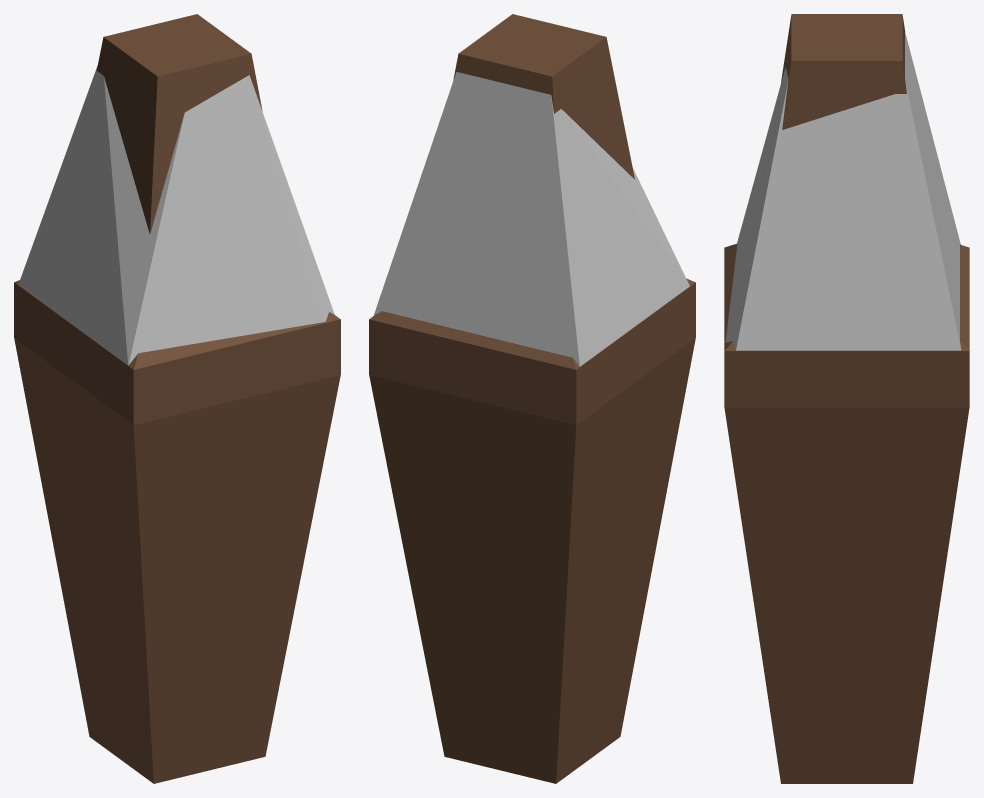
The model's file is SM_Bld_Roof_Cap_End_Peak_01.fbx.
3 renders of one model, left to right at view 1: azimuth 30°, elevation 25°; view 2: azimuth 150°, elevation 25°; view 3: azimuth 270°, elevation 25°, orthographic. The views are drawn at different scales.
Parts seen in each view (by area): view 1: SM_Bld_Roof_Cap_End_Peak_01, SM_Bld_Roof_Cap_End_Peak_01_ConvexHulls; view 2: SM_Bld_Roof_Cap_End_Peak_01, SM_Bld_Roof_Cap_End_Peak_01_ConvexHulls; view 3: SM_Bld_Roof_Cap_End_Peak_01, SM_Bld_Roof_Cap_End_Peak_01_ConvexHulls.
Part boxes in pixels (bbox=[...]): SM_Bld_Roof_Cap_End_Peak_01: bbox=[14, 14, 340, 783]; SM_Bld_Roof_Cap_End_Peak_01_ConvexHulls: bbox=[18, 66, 334, 365]; SM_Bld_Roof_Cap_End_Peak_01: bbox=[369, 14, 695, 783]; SM_Bld_Roof_Cap_End_Peak_01_ConvexHulls: bbox=[373, 72, 689, 366]; SM_Bld_Roof_Cap_End_Peak_01: bbox=[724, 14, 969, 783]; SM_Bld_Roof_Cap_End_Peak_01_ConvexHulls: bbox=[725, 32, 961, 350].
Size of the model in its own units: 43.04 by 43.04 by 139.
Materials: 2 (1 with a texture image).
